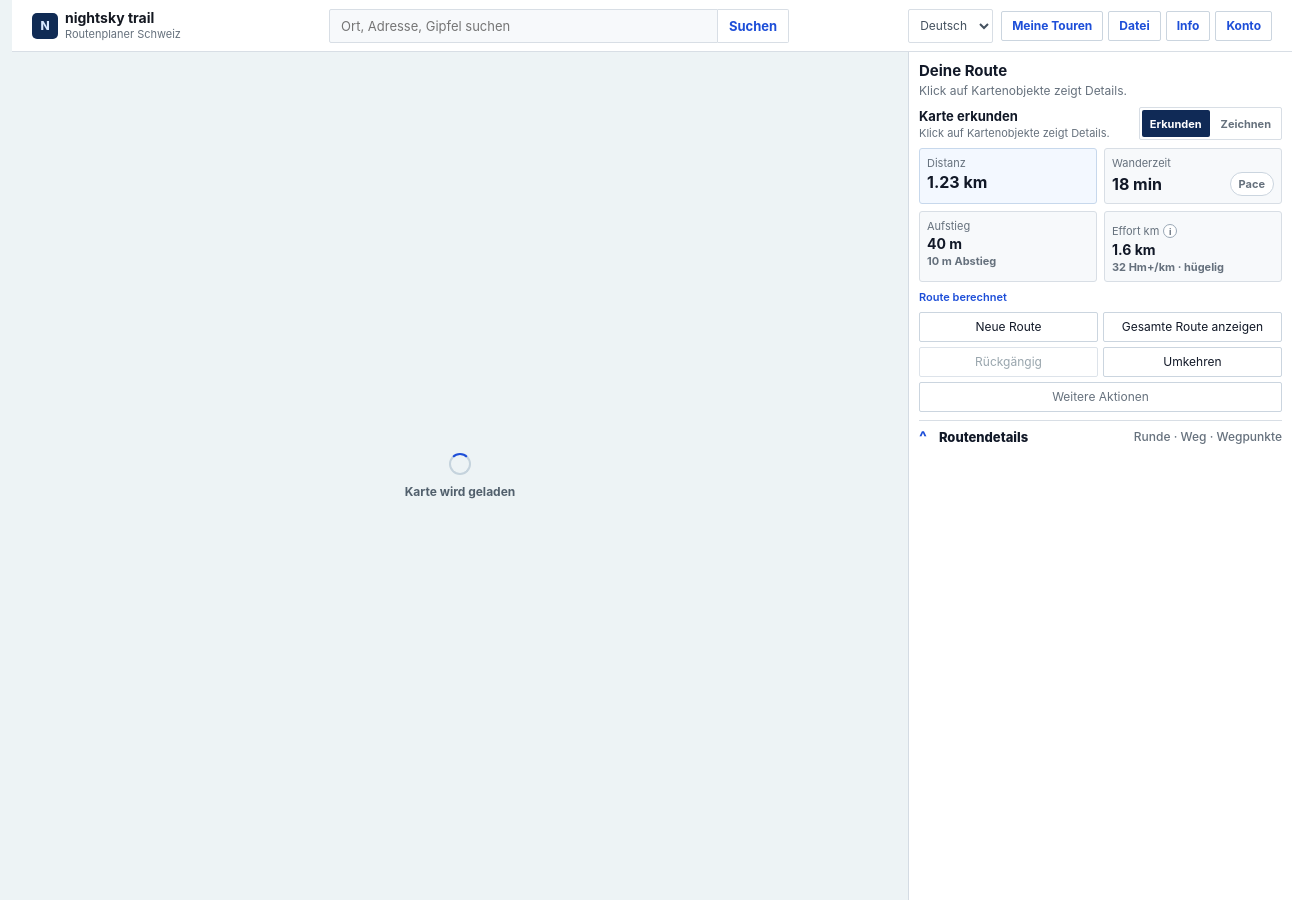
Test case: App › protects an unsaved route before starting a new one
Expected: the text "1.23 km" is shown, [927,172,987,192]
Click the button "Neue Route" at [1008, 326], box [919,312,1098,342]
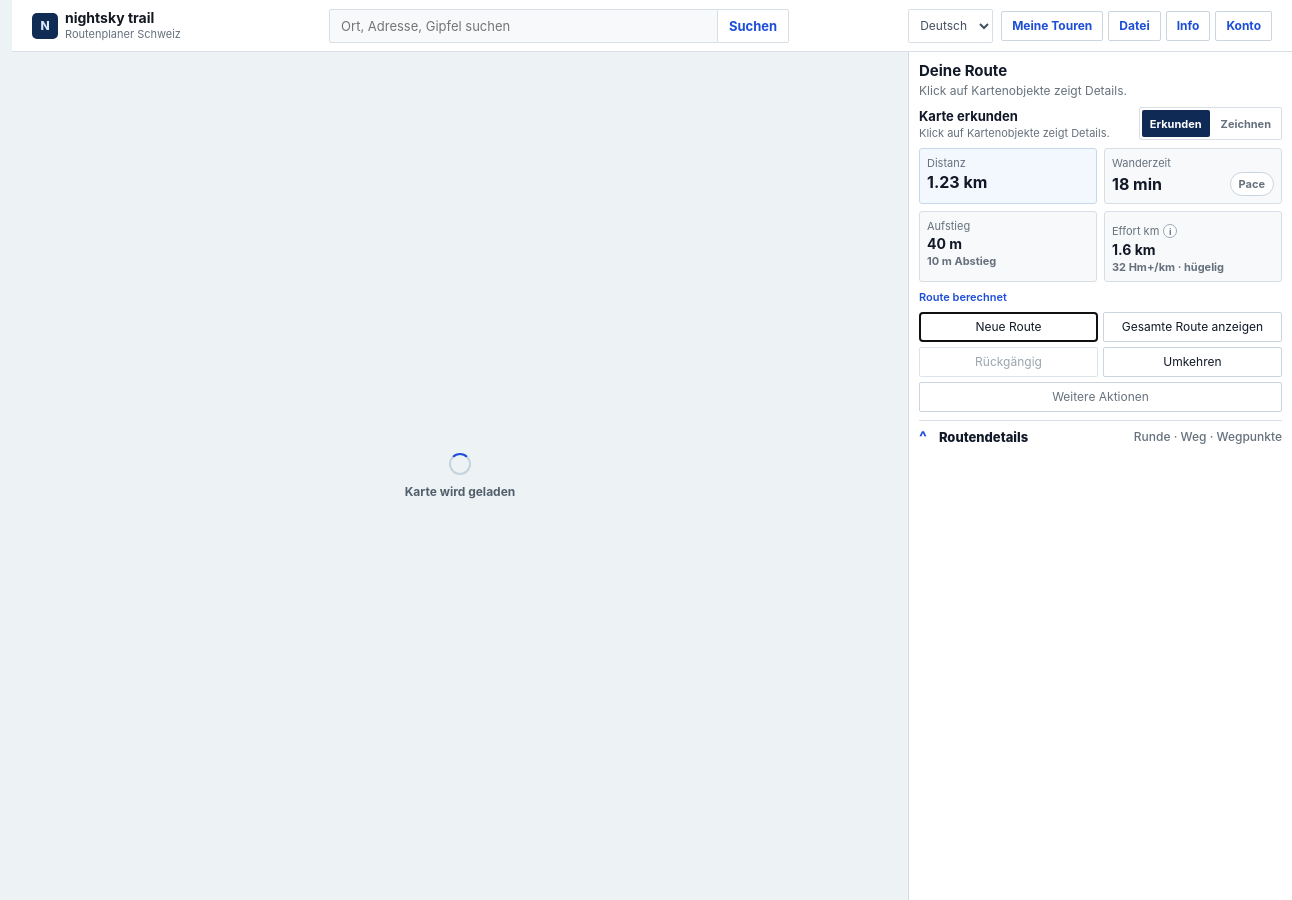
Expected: the text "1.23 km" is shown, [927,172,987,192]
Click the button "Neue Route" at [1008, 326], box [919,312,1098,342]
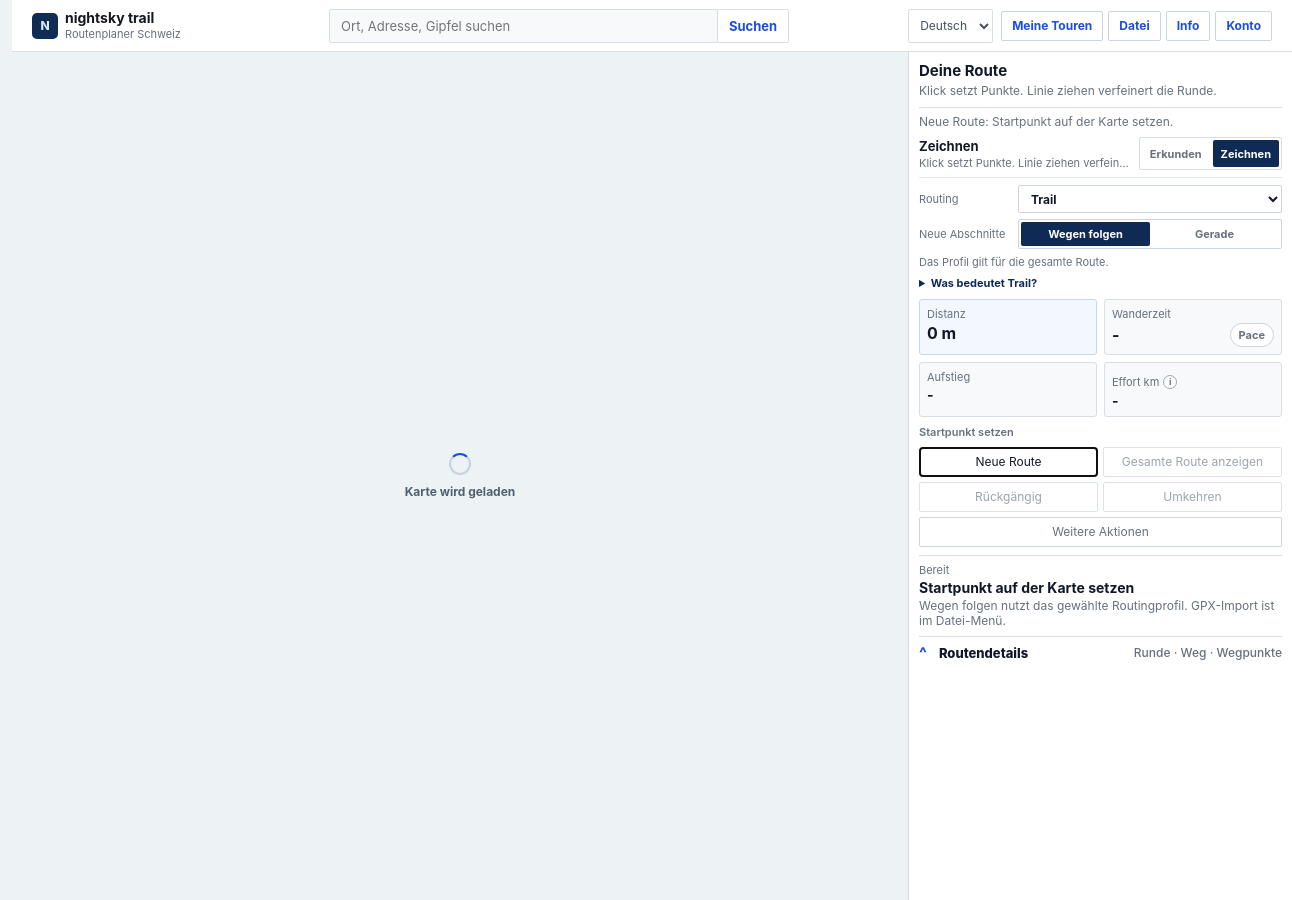
Now the text "Startpunkt auf der Karte setzen" is shown, box [919,579,1134,596]
